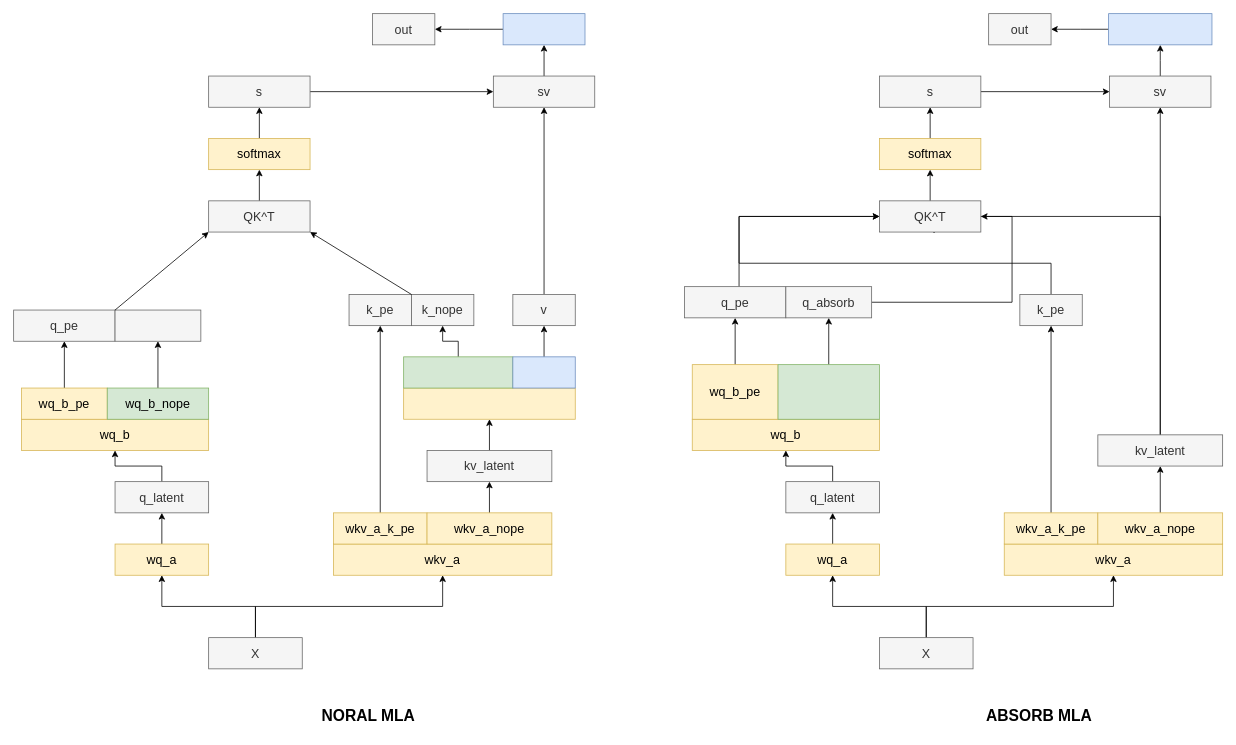
The diagram is 1236 pixels wide and 745 high, and some of its shapes have lost their labels. The centre of each missing label's shape, as x and y in pixels:
"o_proj" goes at (543,29).
"o_proj * wv_b" goes at (1160,29).
"q_nope" goes at (157,325).
"wk_b_nope" goes at (458,372).
"wkv_b" goes at (489,403).
"wq_b_nope * wk_b_nope^T" goes at (828,391).
"wv_b" goes at (543,372).
